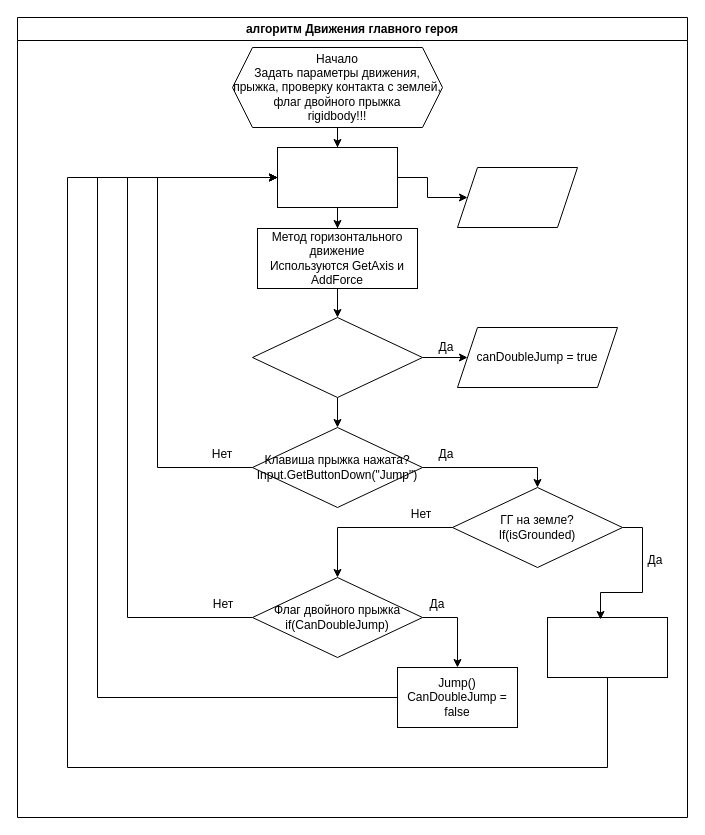
Some shapes in this 705 by 835 pixel diagram are drawn without their labels. The centre of each missing label's shape, as x and y in pixels:
Jump(): pixel 607 647
ГГ на земле isGrounded!=0: pixel 337 357
Переменная isGrounded: pixel 517 197
Проверка касания земли: pixel 337 177
